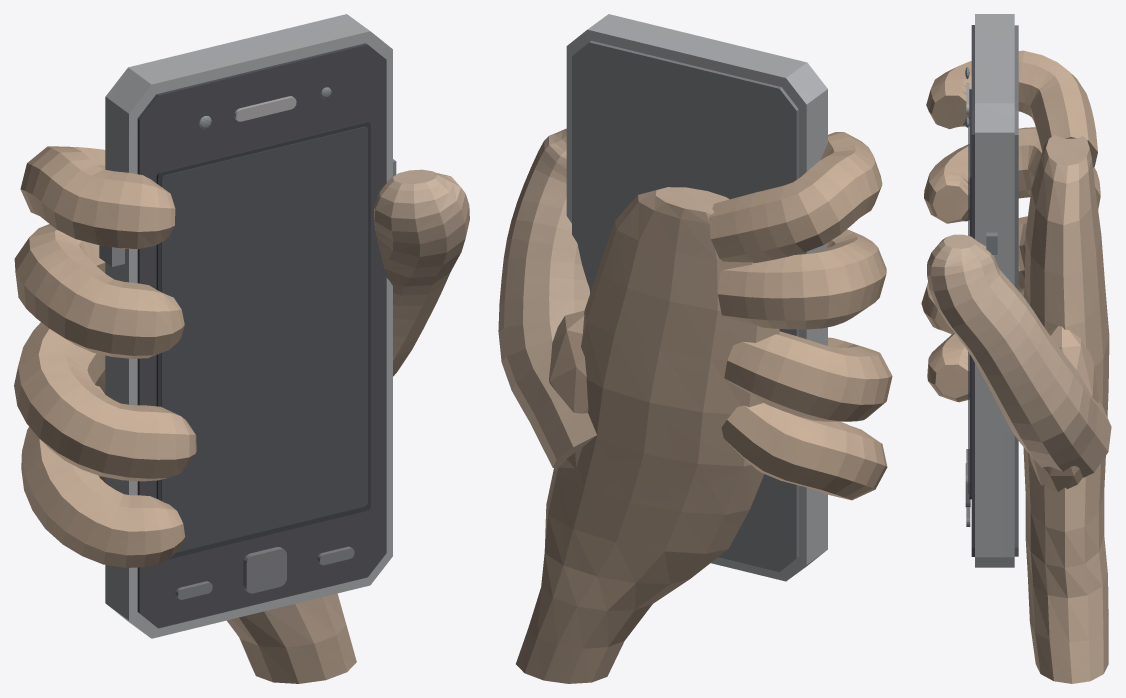
File: mano-telefono.glb
3 views of the same model, side by side, from view 1: azimuth 30°, elevation 25°; view 2: azimuth 150°, elevation 25°; view 3: azimuth 270°, elevation 25° (orthographic). The views are drawn at different scales.
Parts seen in each view (by area): view 1: PHONE_screen_inner, PHONE_front_black_face, PHONE_chassis_silver, HAND_finger_ring, HAND_finger_middle, HAND_finger_pinky, HAND_thumb, HAND_finger_index, HAND_palm_and_wrist, PHONE_screen_glass, PHONE_home_button, PHONE_earpiece; view 2: HAND_palm_and_wrist, PHONE_rear_gray_panel, HAND_thumb, PHONE_chassis_silver, HAND_finger_index, HAND_finger_middle, HAND_finger_ring, HAND_finger_pinky, HAND_thenar_pad; view 3: HAND_palm_and_wrist, HAND_thumb, PHONE_chassis_silver, HAND_finger_index, HAND_finger_middle, HAND_thenar_pad, HAND_finger_pinky, PHONE_rear_gray_panel, PHONE_front_black_face, HAND_finger_ring, PHONE_screen_glass.
Boxes of the visible parts, box(x1,y1,x2,y2) form: PHONE_screen_inner: box(161, 126, 367, 552); PHONE_front_black_face: box(137, 43, 386, 628); PHONE_chassis_silver: box(105, 14, 392, 638); HAND_finger_ring: box(14, 322, 196, 481); HAND_finger_middle: box(14, 224, 184, 358); HAND_finger_pinky: box(21, 385, 185, 567); HAND_thumb: box(374, 169, 469, 376); HAND_finger_index: box(20, 146, 175, 249); HAND_palm_and_wrist: box(95, 370, 356, 683); PHONE_screen_glass: box(156, 121, 370, 558); PHONE_home_button: box(243, 547, 286, 593); PHONE_earpiece: box(234, 96, 296, 121); HAND_palm_and_wrist: box(516, 187, 779, 683); PHONE_rear_gray_panel: box(572, 41, 798, 571); HAND_thumb: box(498, 128, 596, 468); PHONE_chassis_silver: box(566, 14, 827, 581); HAND_finger_index: box(709, 132, 882, 263); HAND_finger_middle: box(718, 229, 886, 329); HAND_finger_ring: box(724, 331, 892, 421); HAND_finger_pinky: box(721, 403, 887, 500); HAND_thenar_pad: box(549, 310, 588, 469); HAND_palm_and_wrist: box(1023, 135, 1109, 683); HAND_thumb: box(927, 234, 1111, 477); PHONE_chassis_silver: box(975, 14, 1014, 567); HAND_finger_index: box(926, 50, 1097, 167); HAND_finger_middle: box(924, 127, 1100, 223); HAND_thenar_pad: box(1029, 326, 1098, 491); HAND_finger_pinky: box(927, 291, 1023, 402); PHONE_rear_gray_panel: box(1014, 25, 1018, 556); PHONE_front_black_face: box(971, 25, 974, 556); HAND_finger_ring: box(921, 216, 1027, 334); PHONE_screen_glass: box(969, 89, 971, 499).
Size of the model in its own units: 2.72 by 4.26 by 1.3.
